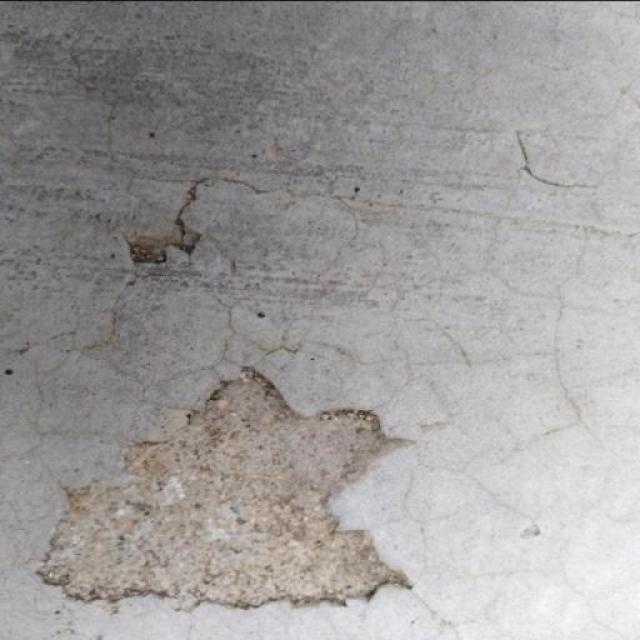D10: (38, 366, 408, 612), (125, 214, 196, 268)
